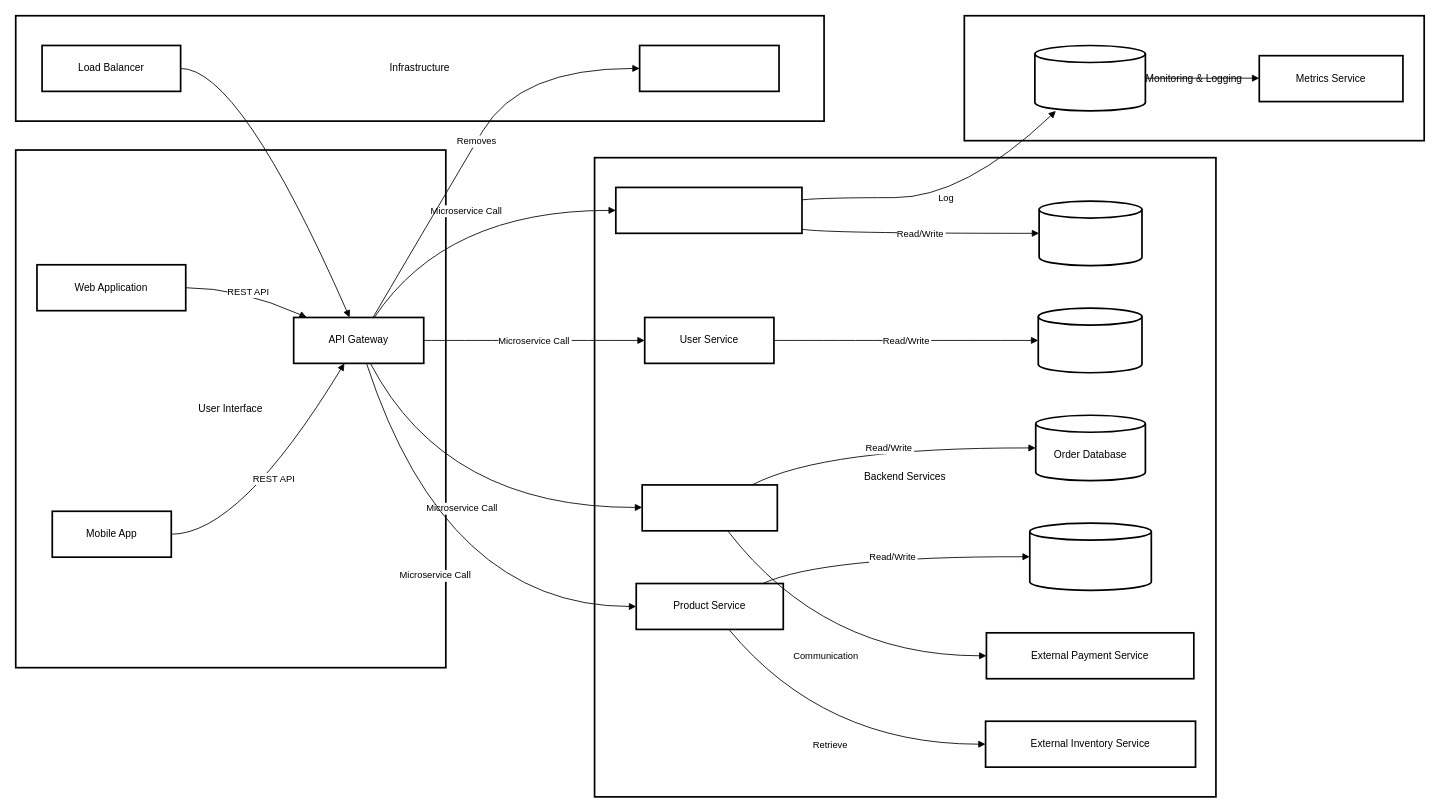
The diagram is 1439 pixels wide and 812 high, and some of its shapes have lost their labels. Here are the shapes that lost their labels. From the top down, the centre of each, then its label:
(708,68): Cache Service
(1090,77): Logging Service
(708,210): Authentication Service
(1090,233): Auth Database
(1089,340): User Database
(709,507): Order Service
(1090,556): Product Database
